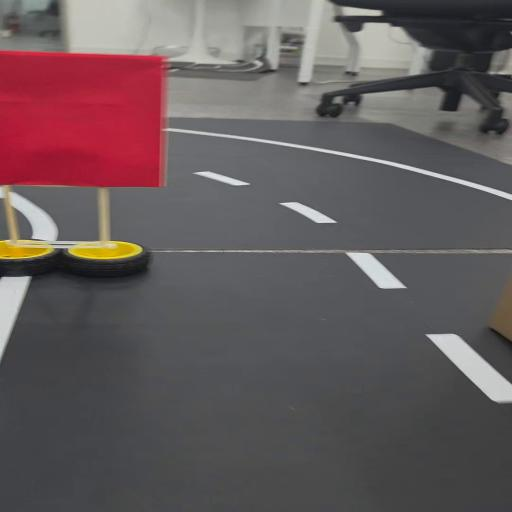Sign_A: (0, 48, 183, 288)
